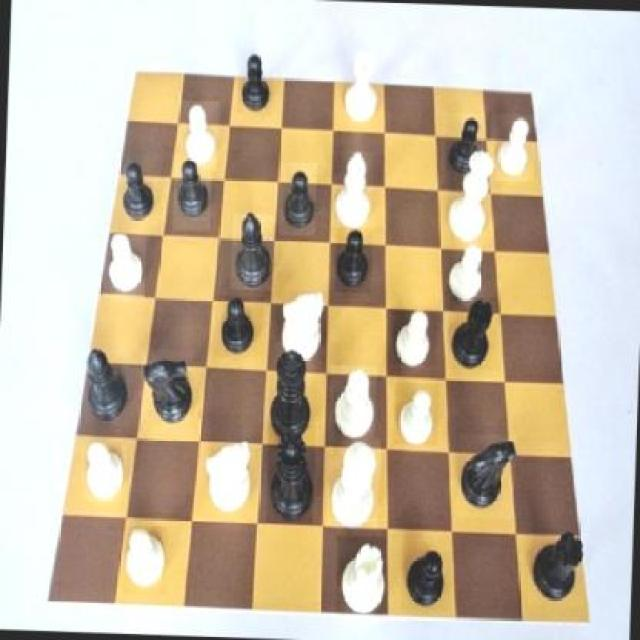bishop: (83, 348, 131, 425), (230, 214, 274, 291)
black-bishop: (268, 342, 312, 439)
black-king: (457, 434, 517, 520), (138, 350, 192, 436)
black-knight: (440, 112, 486, 186), (400, 549, 454, 612), (116, 152, 160, 228), (213, 294, 264, 358), (172, 154, 212, 231), (278, 163, 318, 237), (334, 223, 371, 293), (237, 48, 274, 114)
black-pawn: (264, 423, 314, 524)
black-queen: (528, 532, 588, 608), (448, 297, 502, 372)
black-rook: (329, 366, 377, 443), (331, 151, 374, 228)
white-bishop: (326, 438, 380, 531)
white-king: (196, 429, 256, 519), (274, 290, 327, 364)
white-knight: (121, 526, 168, 596), (490, 114, 536, 183), (389, 304, 438, 366), (180, 98, 220, 172), (394, 382, 440, 446), (443, 243, 487, 309), (80, 443, 128, 503), (101, 234, 146, 297)
white-pawn: (443, 150, 496, 244)
white-queen: (335, 535, 388, 618), (340, 43, 380, 125)
